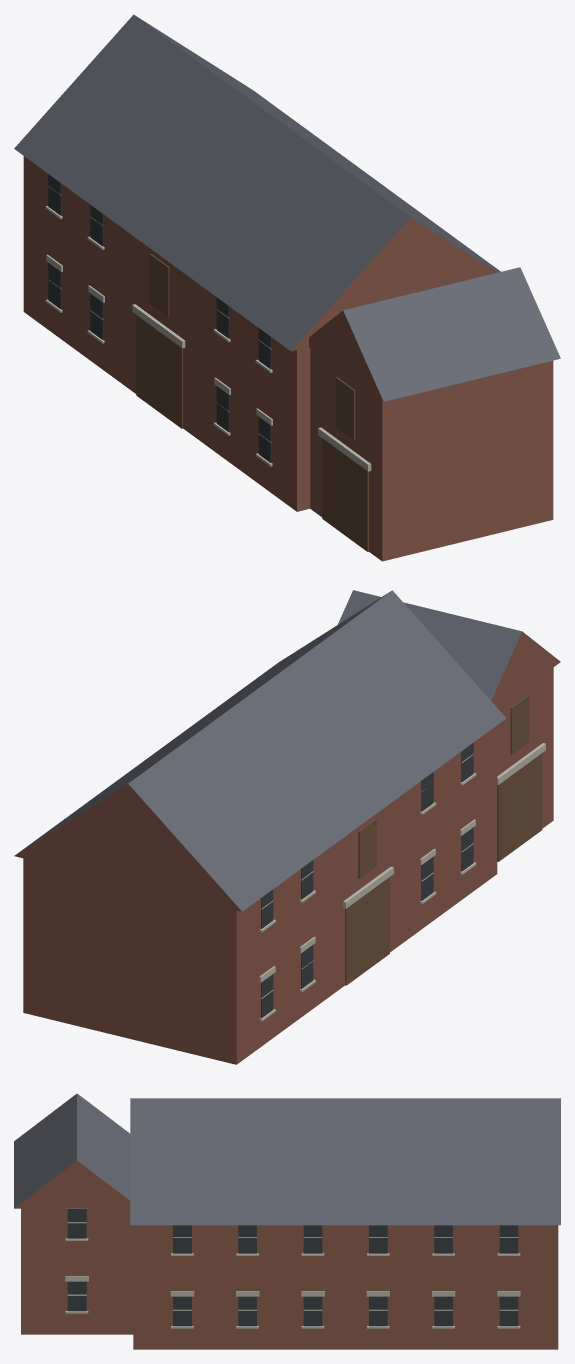
Rendered from hanford_house_2008_calumet_coach_house__draft_1904.glb.
3 renders of one model, top to bottom at view 1: azimuth 30°, elevation 25°; view 2: azimuth 150°, elevation 25°; view 3: azimuth 270°, elevation 25°, orthographic. The views are drawn at different scales.
Parts seen in each view (by area): view 1: hanford_house_2008_calumet_coach_house__draft_1904; view 2: hanford_house_2008_calumet_coach_house__draft_1904; view 3: hanford_house_2008_calumet_coach_house__draft_1904.
Part boxes in pixels (bbox=[...]): hanford_house_2008_calumet_coach_house__draft_1904: bbox=[14, 14, 560, 561]; hanford_house_2008_calumet_coach_house__draft_1904: bbox=[14, 590, 560, 1064]; hanford_house_2008_calumet_coach_house__draft_1904: bbox=[14, 1093, 560, 1349].
Bounding box in the file's own units: 9.1 × 9.77 × 23.17.
